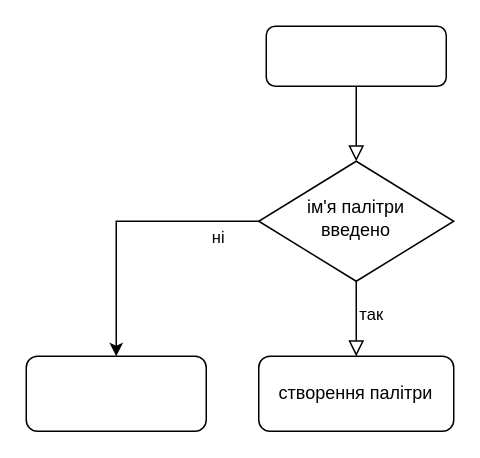
The diagram is 480 pixels wide and 458 high, and some of its shapes have lost their labels. The box of each missing label's shape, as (x1, y1, x2, y2) in pixels:
виведення повідомлення про помилку: (25, 355, 206, 431)
кнопка зберегти нажата: (265, 25, 446, 86)
